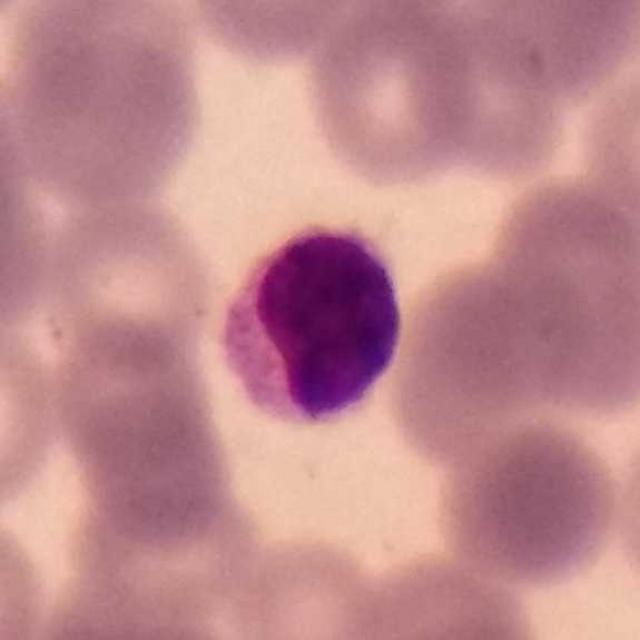Lymphocyte: (208, 216, 415, 435)
RBC: (388, 247, 606, 440), (7, 15, 207, 204), (479, 175, 640, 409), (39, 472, 268, 634), (300, 1, 486, 193), (400, 1, 596, 177), (434, 414, 629, 589), (41, 196, 218, 376), (68, 383, 239, 550), (222, 527, 401, 640), (0, 0, 177, 114), (443, 0, 640, 98), (330, 553, 548, 640), (0, 312, 65, 513), (573, 46, 640, 240), (178, 0, 376, 63), (0, 102, 43, 328), (27, 600, 259, 640), (605, 398, 640, 606), (0, 509, 55, 639)
